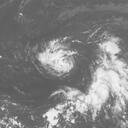cyclone: (38, 41, 73, 75)
